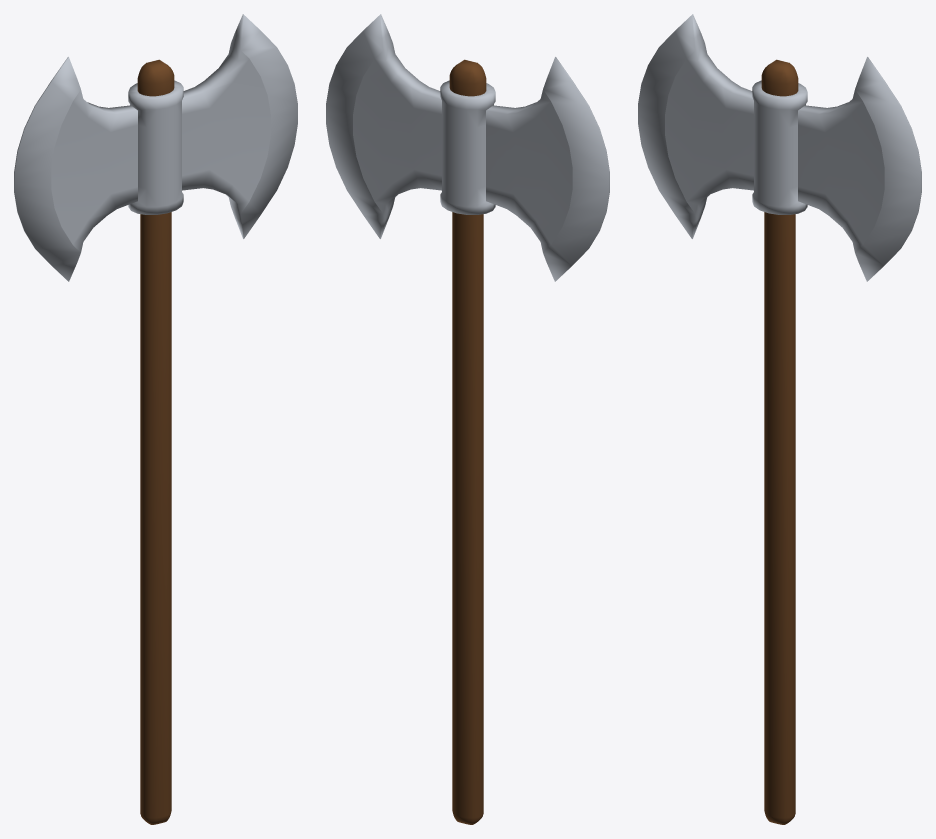
Rendered from egil_axe.glb.
The picture shows the model from 3 angles, left to right: view 1: azimuth 30°, elevation 25°; view 2: azimuth 150°, elevation 25°; view 3: azimuth 330°, elevation 25°; orthographic projection.
Parts seen in each view (by area): view 1: Cube.002; view 2: Cube.002; view 3: Cube.002.
Boxes of the visible parts, x1,y1,x2,y2 form: Cube.002: [14, 14, 297, 824]; Cube.002: [326, 14, 609, 824]; Cube.002: [638, 14, 921, 824].
Bounding box in the file's own units: 0.4906 × 1.3 × 0.0701.
